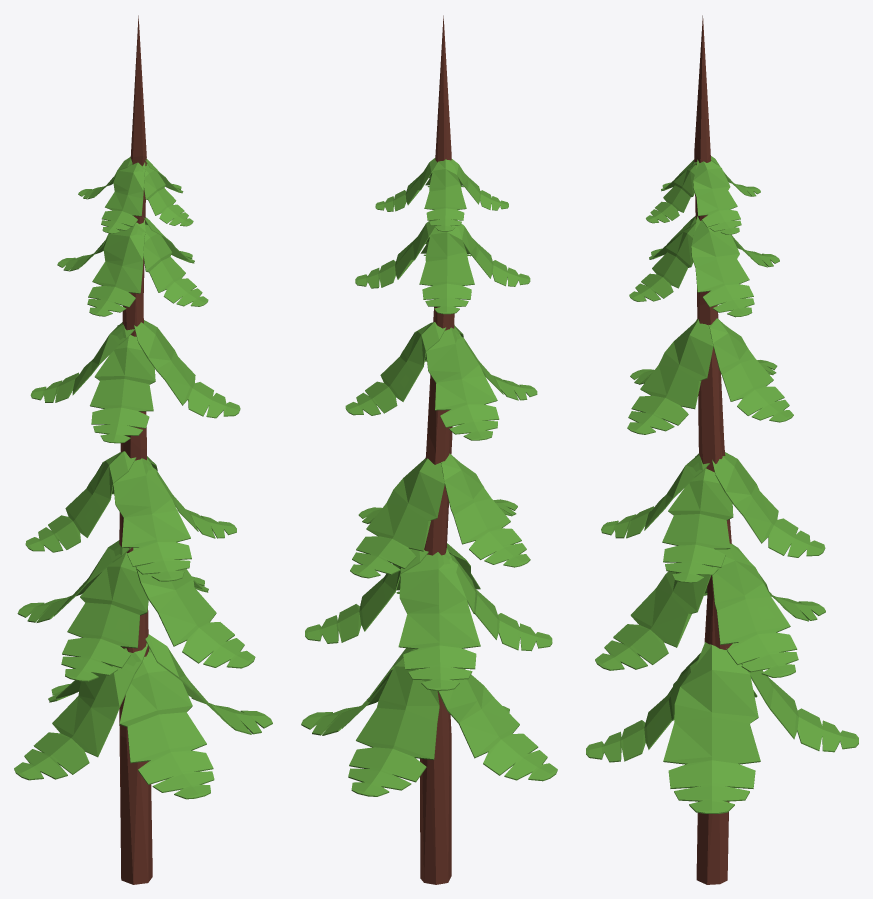
File: tree4.fbx
The picture shows the model from 3 angles, left to right: view 1: azimuth 30°, elevation 25°; view 2: azimuth 150°, elevation 25°; view 3: azimuth 270°, elevation 25°; orthographic projection.
Visible parts, largest first — view 1: Cylinder; view 2: Cylinder; view 3: Cylinder.
Boxes of the visible parts, left/top/right/bottom form: Cylinder: left=14, top=15, right=272, bottom=884; Cylinder: left=301, top=15, right=557, bottom=884; Cylinder: left=586, top=15, right=858, bottom=884.
Size of the model in its own units: 360 by 1200 by 344.
